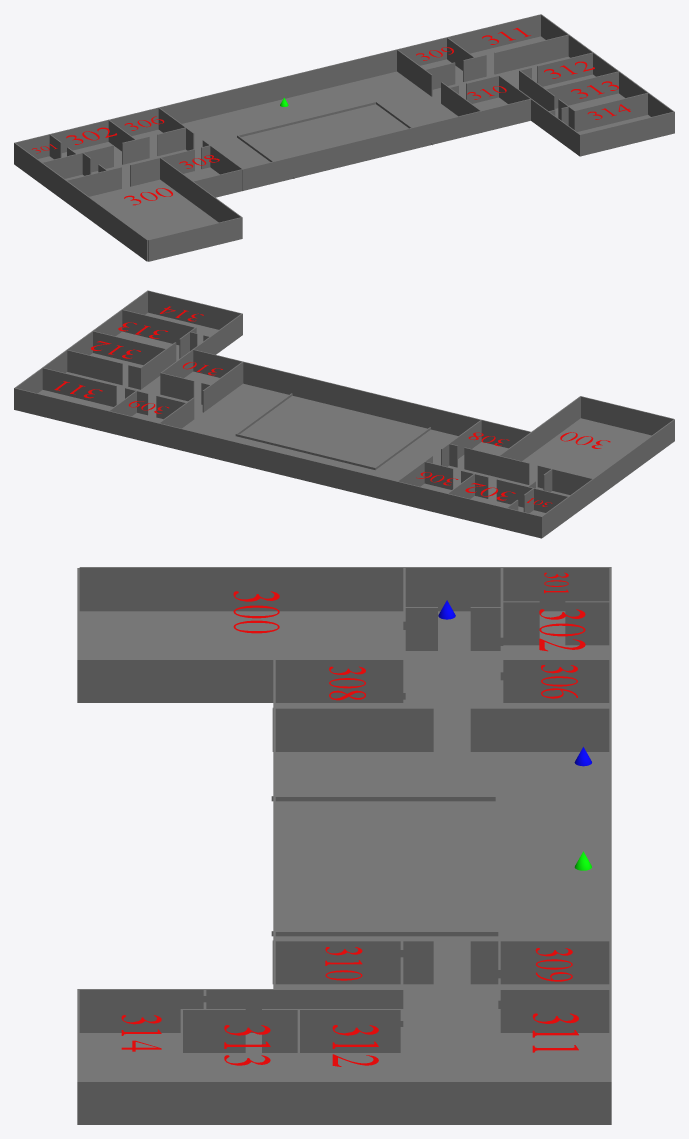
The model's file is gould3.obj.
3 renders of one model, top to bottom at view 1: azimuth 30°, elevation 25°; view 2: azimuth 150°, elevation 25°; view 3: azimuth 270°, elevation 25°, orthographic. The views are drawn at different scales.
Parts seen in each view (by area): view 1: pPlane1, pCube1, pCube21, pCube87, pCube8, pCube7, pPlane2, pCube4, pCube115, pCube5, pCube70, pCube114 (+18 smaller); view 2: pPlane1, pCube1, pCube21, pPlane2, pCube87, pCube7, pCube4, pCube8, pCube5, pCube115, pCube102, pCube70 (+18 smaller); view 3: pPlane1, pCube4, pCube87, pCube5, pPlane2, pCube70, pPlane3, pCube96, pCube109, pCube32, pCube110, pCube113 (+11 smaller).
Part boxes in pixels (x1,y1,x2,y2): pPlane1: (38, 36, 624, 220); pCube1: (14, 14, 540, 160); pCube21: (193, 99, 530, 197); pCube87: (14, 143, 147, 261); pCube8: (579, 111, 674, 156); pCube7: (148, 217, 242, 261); pPlane2: (121, 203, 218, 239); pCube4: (541, 14, 673, 116); pCube115: (494, 34, 568, 74); pCube5: (160, 157, 241, 222); pCube70: (498, 75, 579, 155); pCube114: (575, 93, 647, 131); pPlane1: (38, 353, 602, 516); pCube1: (15, 388, 542, 538); pCube21: (193, 349, 532, 452); pPlane2: (532, 418, 651, 470); pCube87: (541, 419, 674, 538); pCube7: (580, 396, 674, 435); pCube4: (14, 291, 147, 409); pCube8: (147, 290, 242, 335); pCube5: (498, 396, 580, 477); pCube115: (42, 368, 116, 406); pCube102: (464, 447, 529, 484); pCube70: (160, 314, 242, 394); pPlane1: (275, 611, 609, 1080); pCube4: (79, 1080, 611, 1124); pCube87: (79, 567, 610, 611); pCube5: (79, 659, 405, 702); pPlane2: (79, 611, 275, 658); pCube70: (79, 989, 403, 1032); pPlane3: (79, 1033, 275, 1080); pCube96: (272, 707, 433, 751); pCube109: (272, 940, 433, 984); pCube32: (470, 707, 611, 751); pCube110: (470, 940, 611, 984); pCube113: (262, 1009, 402, 1052).
Bounding box in the file's own units: 5126 × 201 × 2249.
